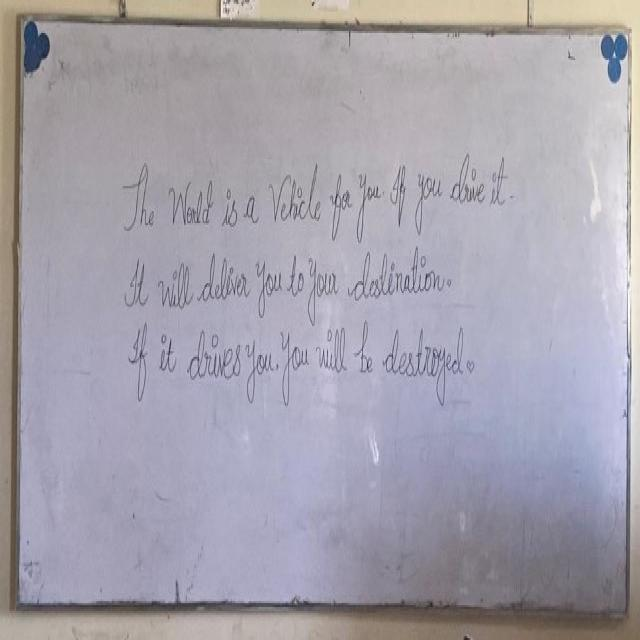White-board: (21, 26, 625, 605)
